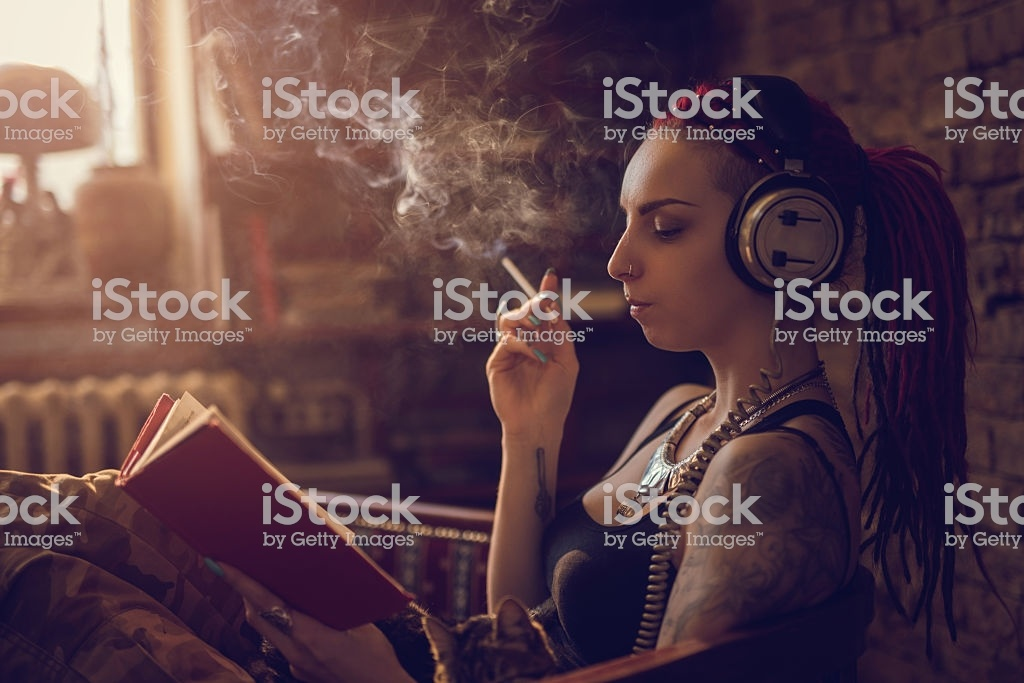sigaretta: (500, 247, 560, 322)
